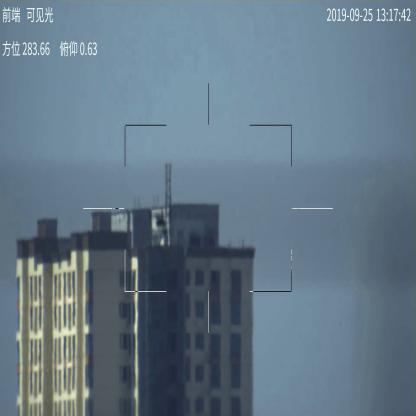uav: (150, 210, 173, 239)
